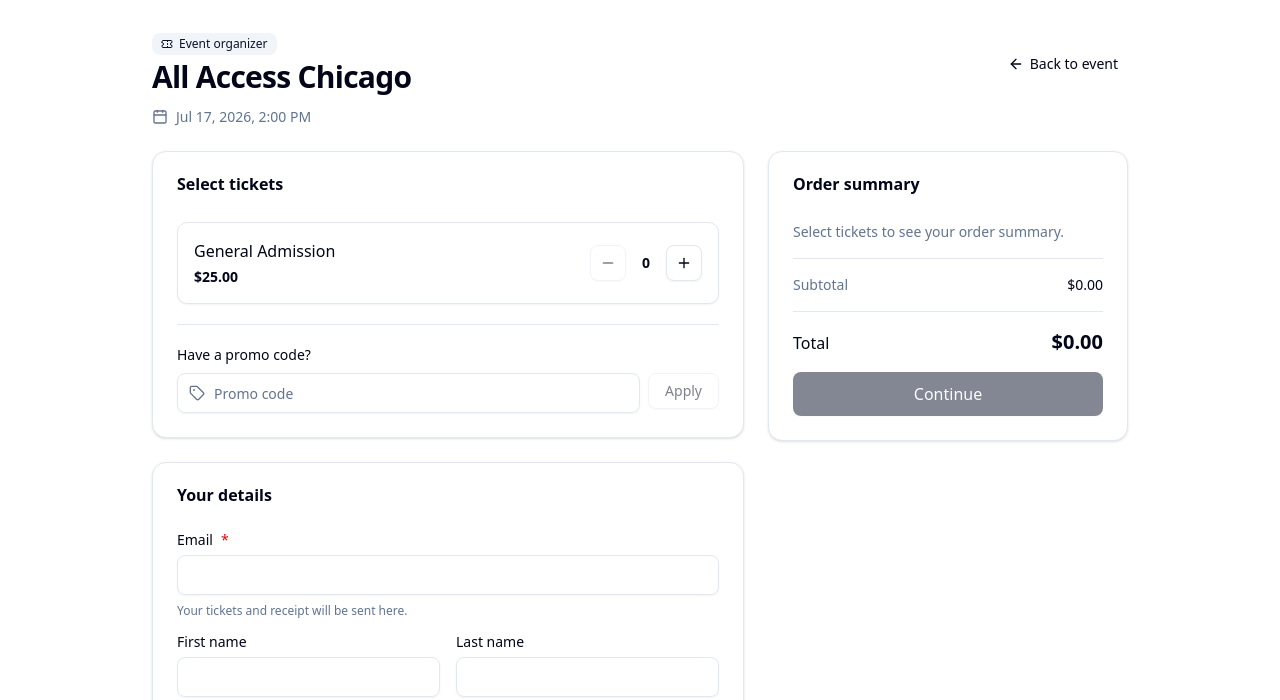
CheckoutFlow buyer validation › blocks checkout before the API when a buyer question fails its validation pattern
This screenshot has width=1280, height=700.
Expected: the text "General Admission" is shown, x1=194 y1=239 x2=335 y2=263
Click the button named "Increase General Admission quantity": coordinates (684, 263) x1=666 y1=245 x2=702 y2=281
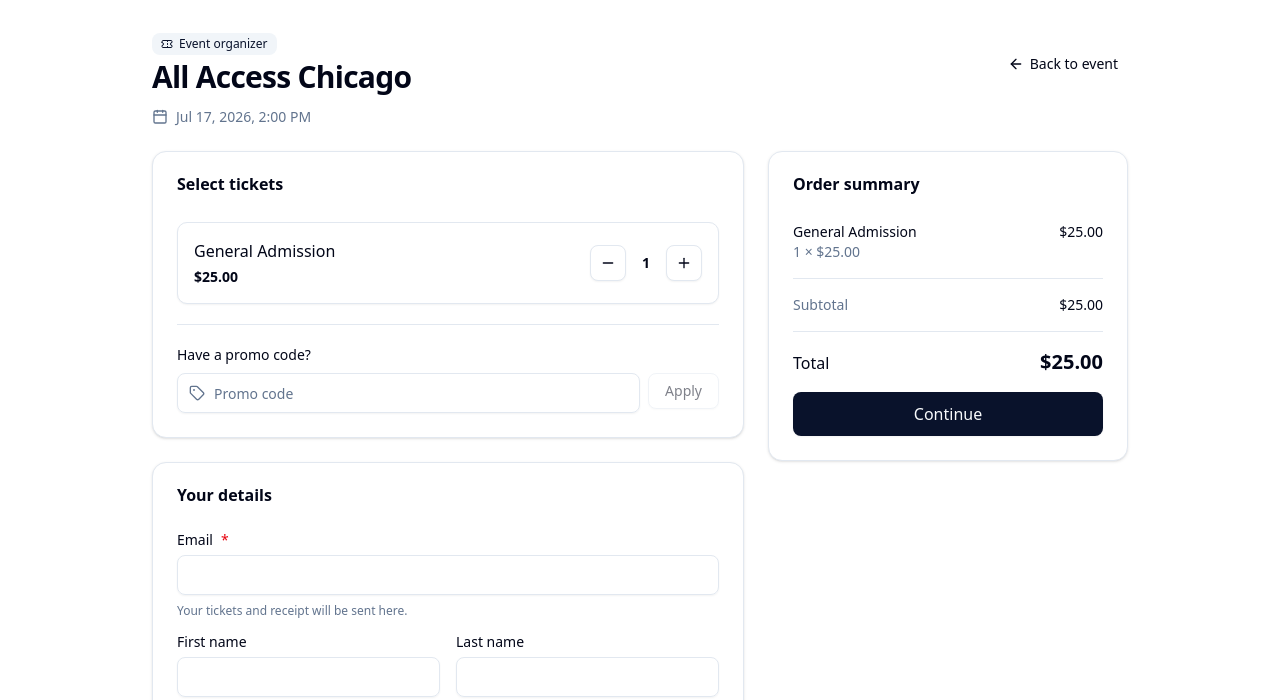
In the field labelled "Email *": coordinates (448, 575) x1=177 y1=555 x2=719 y2=595, type "buyer@example.com"
(page scrolled)
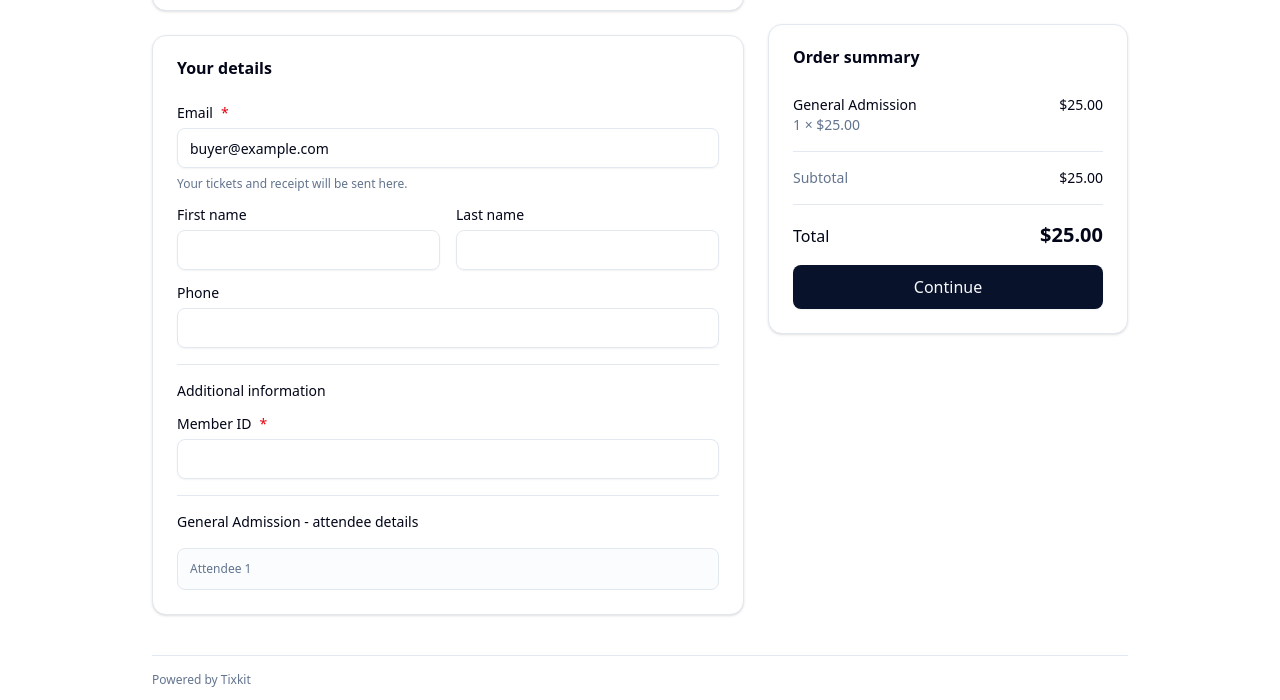
In the field labelled "Member ID *": coordinates (448, 459) x1=177 y1=439 x2=719 y2=479, type "BAD"
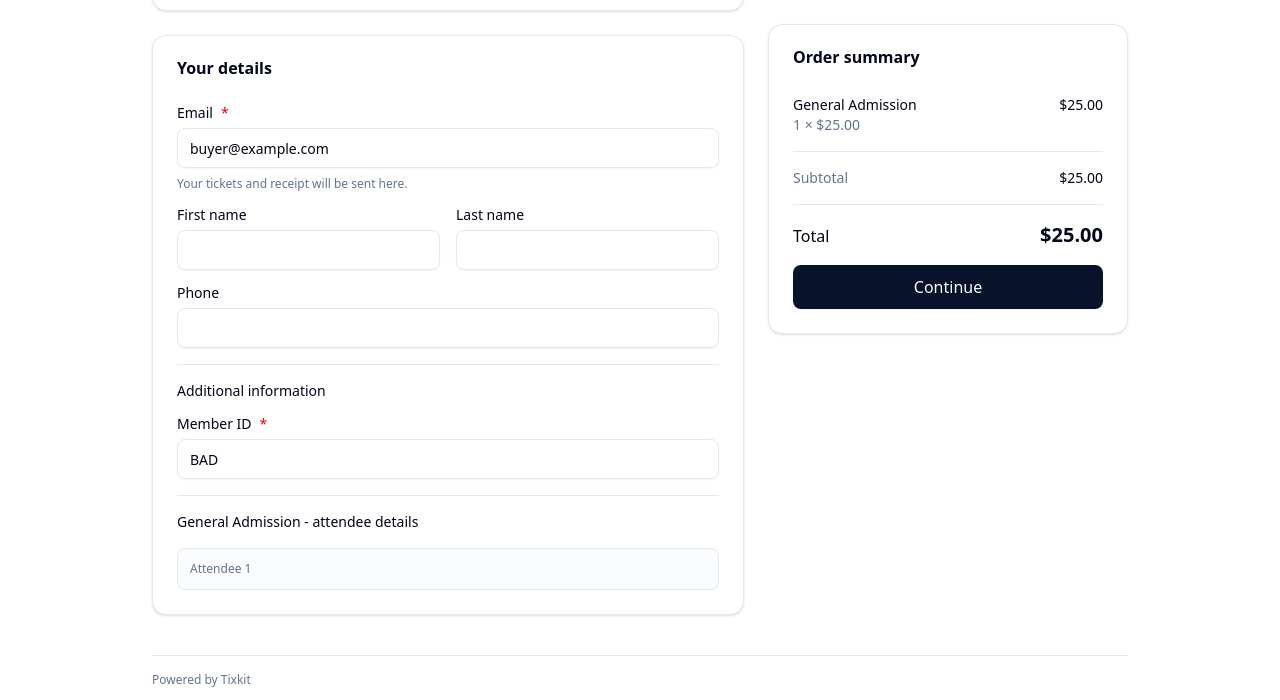
Click the button "Continue": coordinates (948, 287) x1=793 y1=265 x2=1103 y2=309
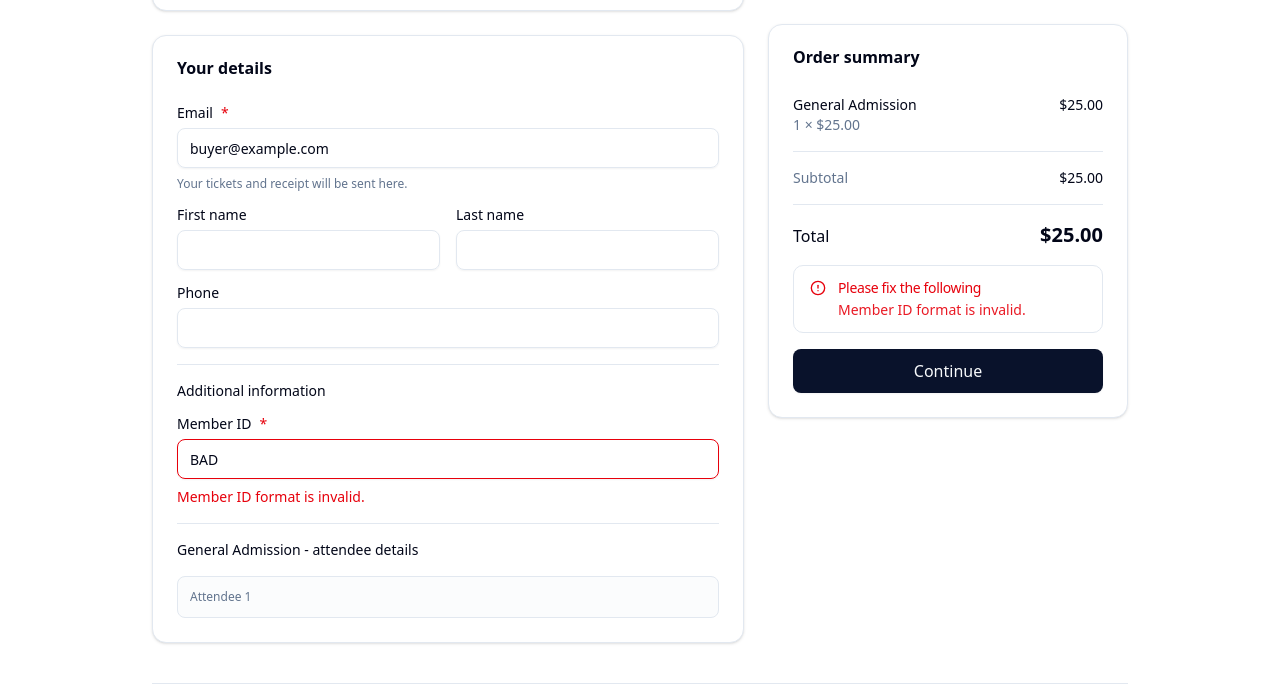
Expected: the text "Member ID format is invalid." is shown 2 times, x1=177 y1=487 x2=365 y2=506; x1=838 y1=300 x2=1026 y2=319
